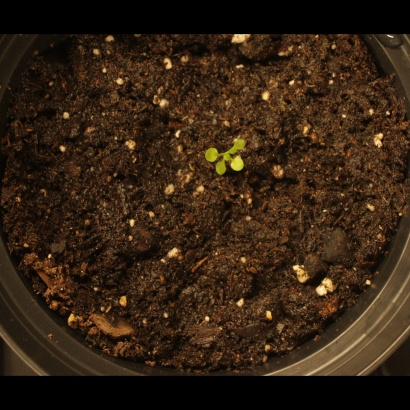leaf: (200, 142, 223, 165), (207, 157, 230, 180), (231, 158, 254, 181), (224, 135, 247, 158)
